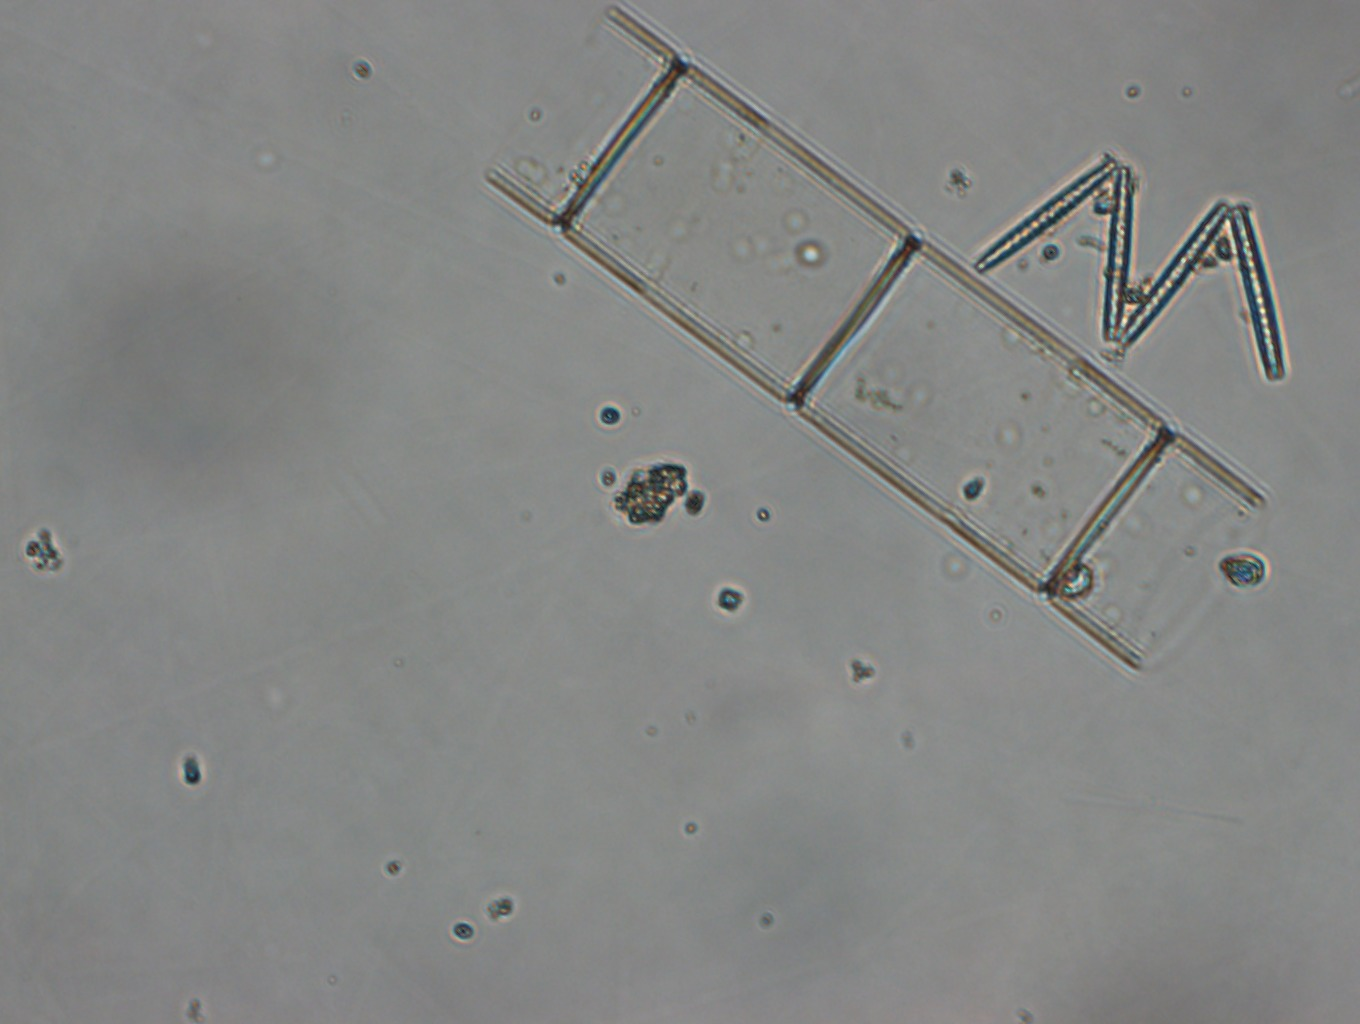guinardia flaccida: (491, 4, 1268, 678)
thalassionema nitzschioides: (974, 146, 1293, 406)
